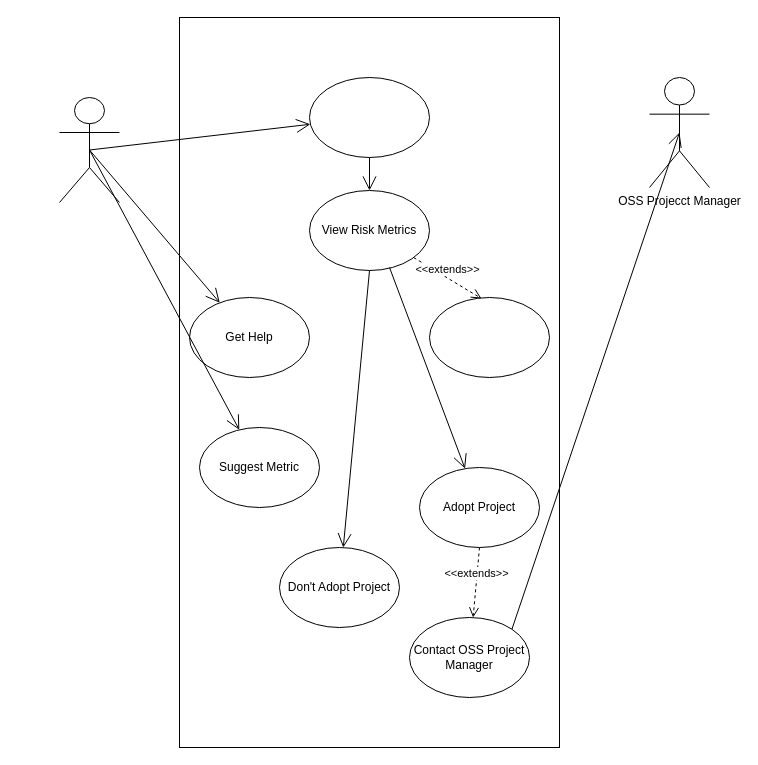
This 758x765 diagram has some shape labels left out. Here are the shapes that lost their labels. From the top down, the centre of each, then its label:
At point 369,117: "View Project".
At point 89,149: "Corporate Project Manager".
At point 489,337: "View Specific Metric Details".
